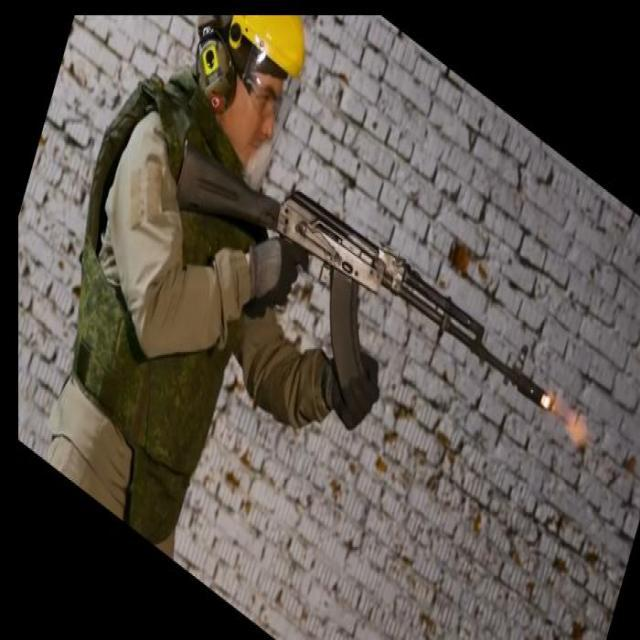weapon: (174, 140, 549, 406)
